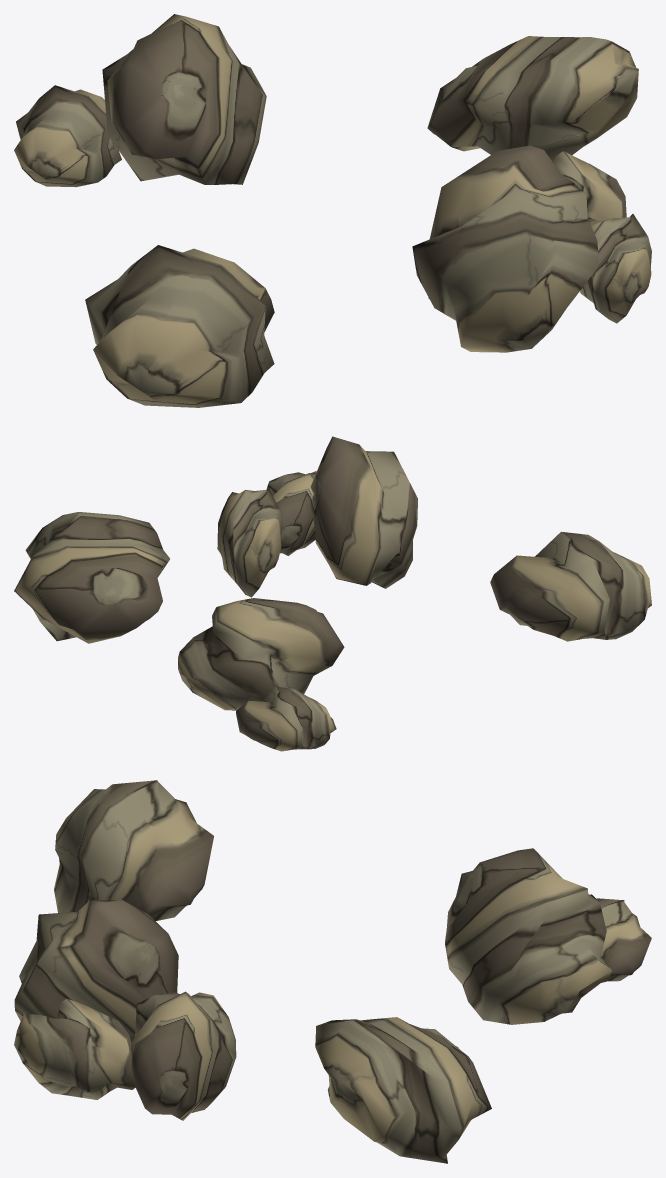
File: rockpile30mr.DAE
3 renders of one model, top to bottom at view 1: azimuth 30°, elevation 25°; view 2: azimuth 150°, elevation 25°; view 3: azimuth 270°, elevation 25°, orthographic. The views are drawn at different scales.
Visible parts, largest first — view 1: Cylinder03; view 2: Cylinder03; view 3: Cylinder03.
Boxes of the visible parts, left/top/right/bottom form: Cylinder03: left=14, top=14, right=651, bottom=407; Cylinder03: left=14, top=436, right=651, bottom=751; Cylinder03: left=14, top=780, right=651, bottom=1163.
Size of the model in its own units: 62.34 by 16.32 by 53.05.
1 material, 1 textured.
